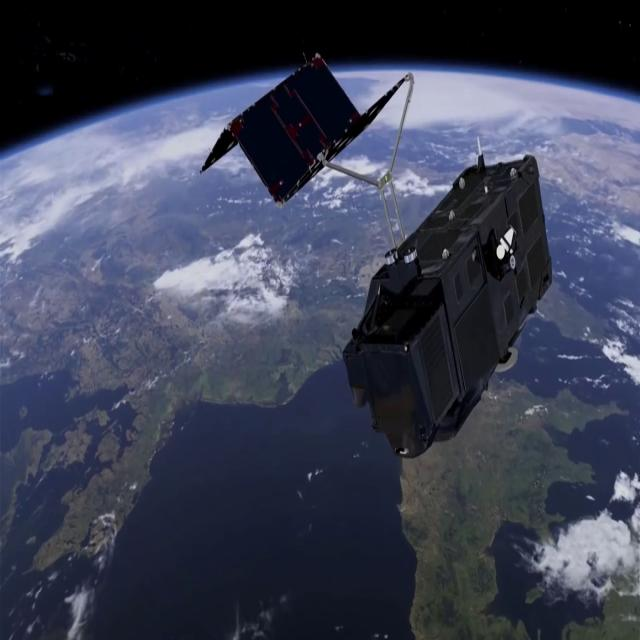satellite: (180, 33, 572, 471)
